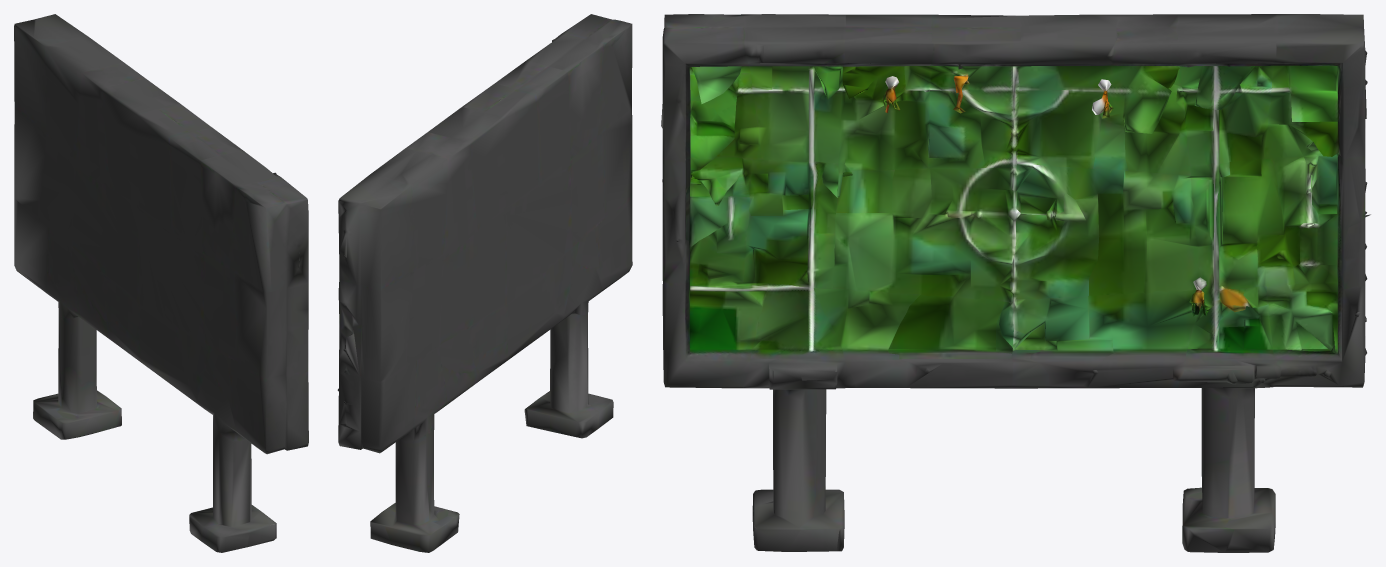
File: scoreboard.glb
3 views of the same model, side by side, from view 1: azimuth 30°, elevation 25°; view 2: azimuth 150°, elevation 25°; view 3: azimuth 270°, elevation 25° (orthographic). The views are drawn at different scales.
Visible parts, largest first — view 1: tripo_node_137a6acd-67f1-42fb-a3ad-9a2f6e86658f; view 2: tripo_node_137a6acd-67f1-42fb-a3ad-9a2f6e86658f; view 3: tripo_node_137a6acd-67f1-42fb-a3ad-9a2f6e86658f.
Boxes of the visible parts, x1,y1,x2,y2 form: tripo_node_137a6acd-67f1-42fb-a3ad-9a2f6e86658f: (14, 14, 308, 552); tripo_node_137a6acd-67f1-42fb-a3ad-9a2f6e86658f: (337, 14, 632, 552); tripo_node_137a6acd-67f1-42fb-a3ad-9a2f6e86658f: (661, 14, 1370, 552).
Size of the model in its own units: 0.1532 by 0.7879 by 0.9955.
Materials: 1 (1 with a texture image).
